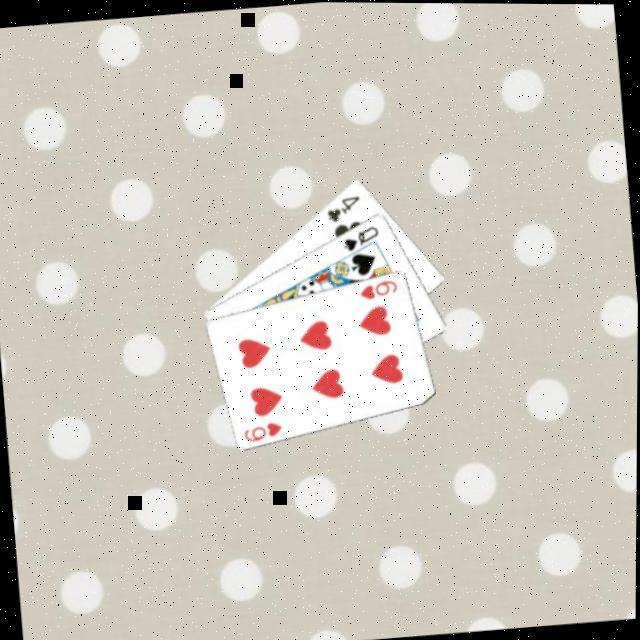4C: (320, 189, 363, 223)
6H: (238, 415, 284, 443), (354, 272, 399, 300)
QS: (336, 219, 381, 252)
